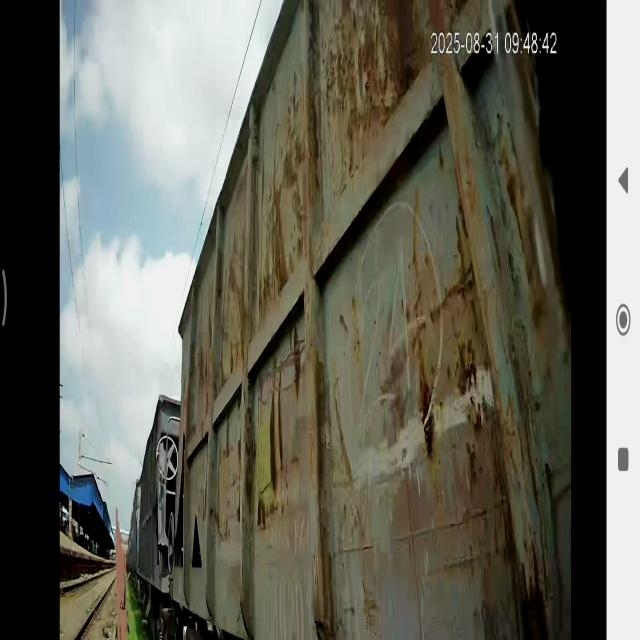coach: (178, 4, 588, 640)
